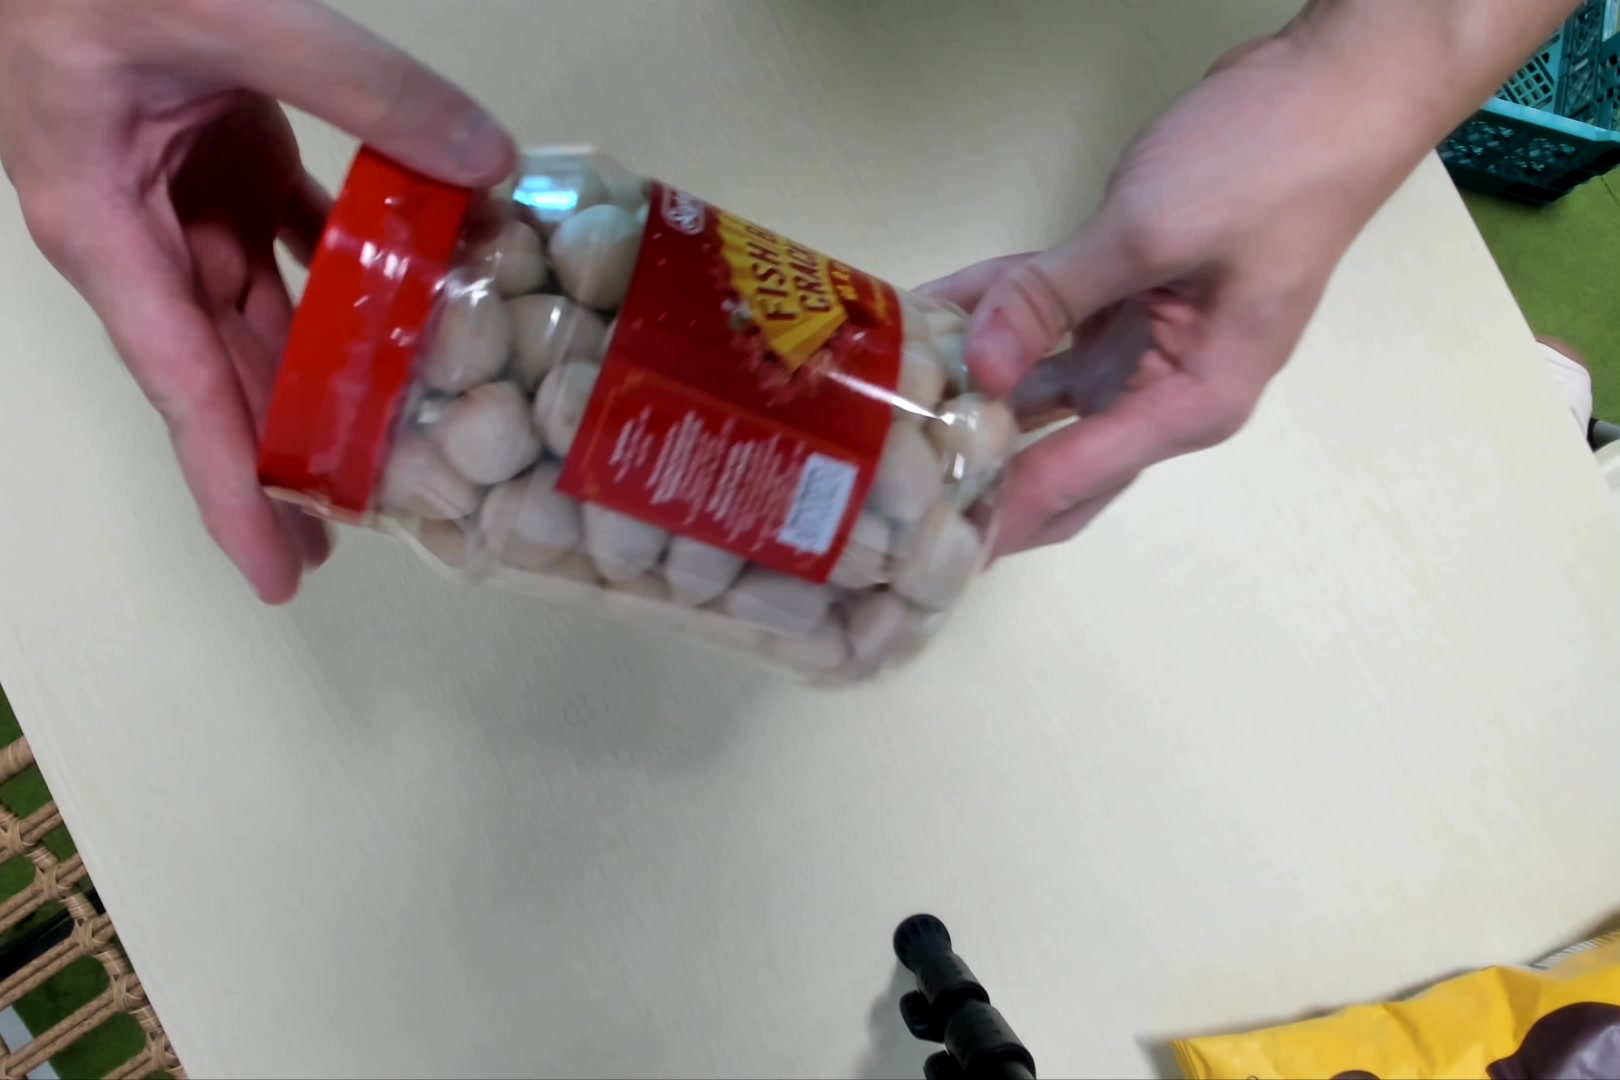PotatoChipsKeropok_100-199g_NonHalal_NonHealthy: (243, 104, 998, 680)
